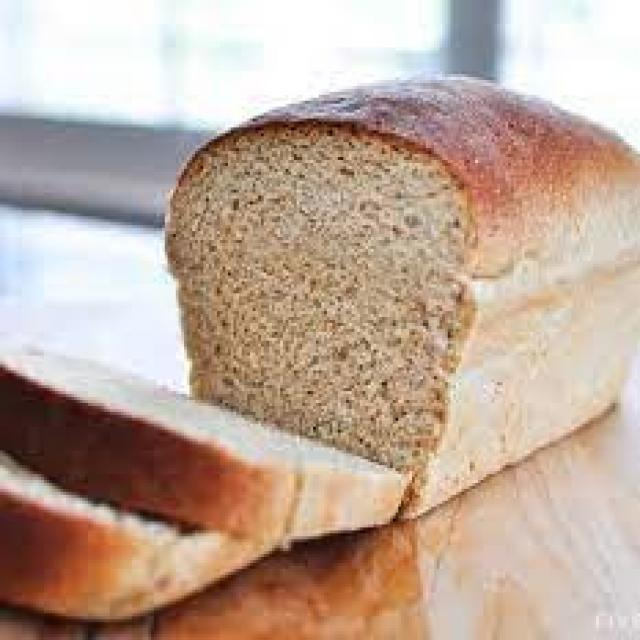bread: (165, 75, 640, 518)
